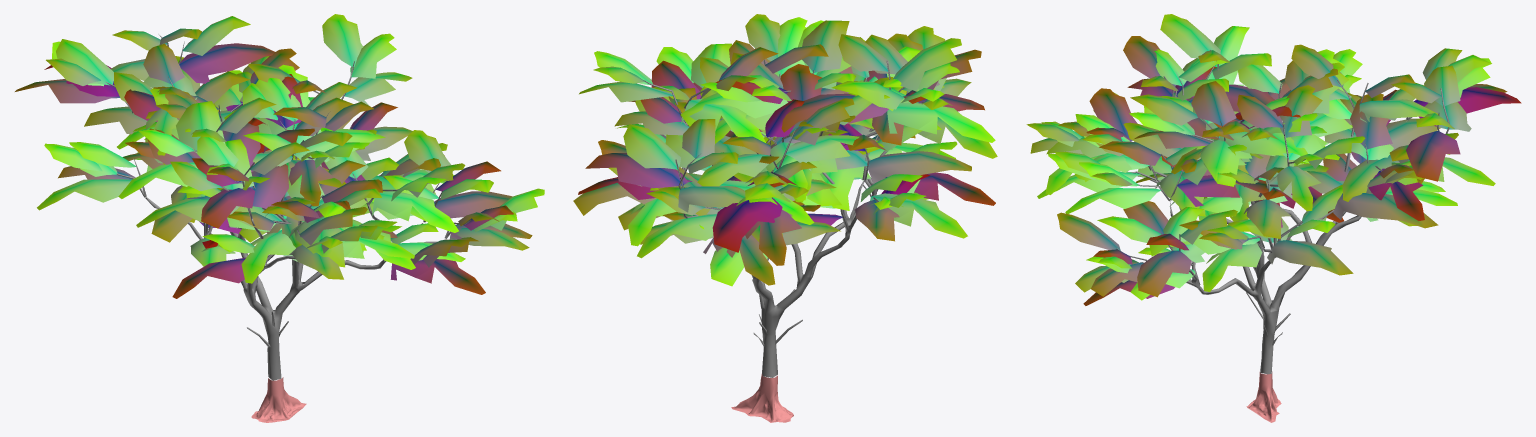
The model's file is SM_teak01.gltf.
3 views of the same model, side by side, from view 1: azimuth 30°, elevation 25°; view 2: azimuth 150°, elevation 25°; view 3: azimuth 270°, elevation 25° (orthographic). The views are drawn at different scales.
Visible parts, largest first — view 1: SM_teak01; view 2: SM_teak01; view 3: SM_teak01.
Part boxes in pixels (<box>): SM_teak01: <box>15,14,544,422</box>; SM_teak01: <box>573,14,997,422</box>; SM_teak01: <box>1026,14,1521,422</box>.
Bounding box in the file's own units: 20.38 × 16.84 × 22.66.
